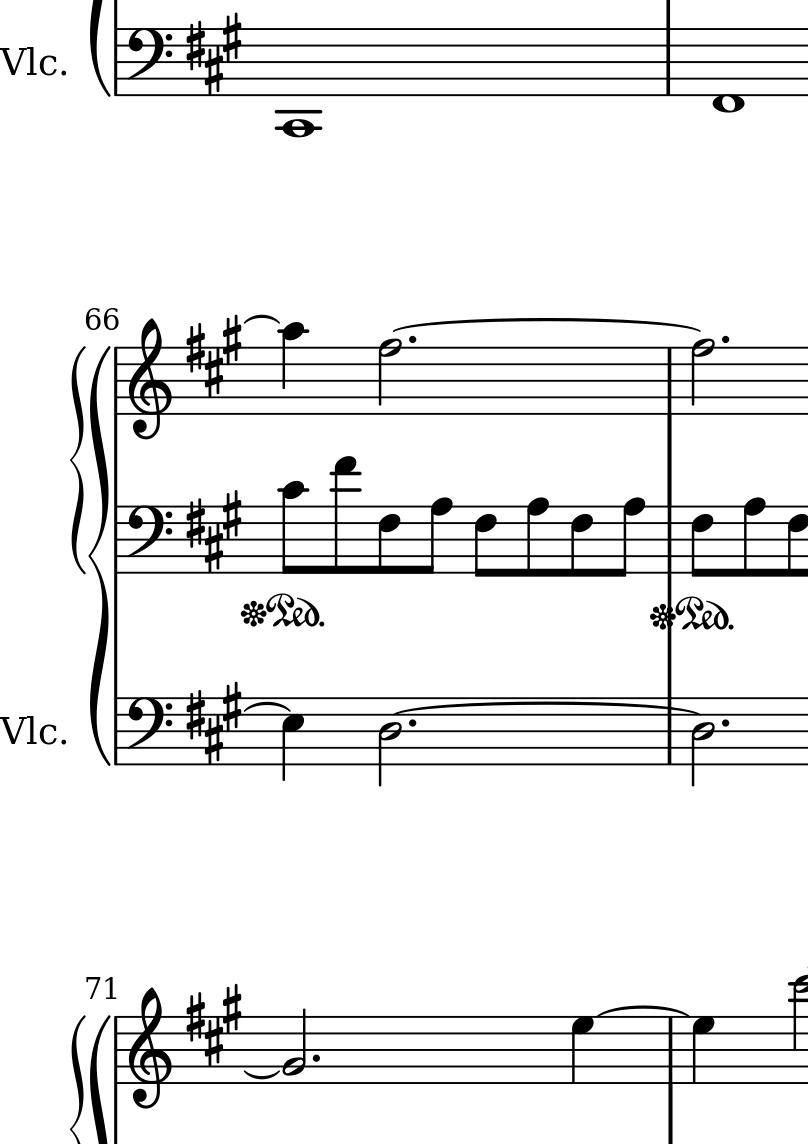1: (104, 974, 119, 1002)
1_-1: (711, 28, 747, 114)
1_-4: (278, 27, 320, 137)
2_2: (280, 1006, 310, 1086)
2_4: (377, 696, 403, 788), (690, 698, 716, 788)
2_8: (690, 336, 716, 417), (377, 338, 403, 417)
4_10: (279, 321, 308, 417)
4_5: (281, 695, 306, 784)
4_7: (690, 1013, 717, 1087), (570, 1014, 596, 1086)
6: (101, 305, 122, 332), (84, 305, 104, 332)
7: (84, 974, 102, 1002)
8_10: (280, 481, 308, 577)
8_13: (329, 456, 360, 575)
8_6: (473, 504, 498, 580), (570, 504, 595, 579), (690, 504, 715, 578), (377, 504, 402, 577), (785, 504, 808, 579)
8_8: (610, 496, 646, 580), (419, 495, 454, 577), (525, 496, 551, 581), (742, 496, 767, 580)
A_S: (184, 681, 246, 764), (184, 488, 242, 574), (184, 12, 244, 93), (185, 314, 241, 398), (185, 986, 243, 1064)
Brace: (88, 343, 110, 766), (69, 345, 87, 576)
Fclef: (125, 26, 175, 98), (126, 503, 174, 575), (126, 696, 174, 766)
Gclef: (126, 984, 176, 1111), (128, 314, 174, 441)
Single_barline: (658, 29, 678, 95), (663, 1018, 683, 1084), (661, 506, 680, 574), (661, 698, 680, 765), (661, 348, 680, 414), (110, 347, 126, 415), (110, 698, 126, 766), (111, 506, 126, 575), (111, 28, 126, 96), (110, 1017, 125, 1083)
Slur: (394, 701, 705, 717), (389, 317, 703, 331), (594, 1004, 691, 1017), (245, 699, 291, 714), (240, 1069, 283, 1080), (244, 314, 280, 325)
Vlc: (1, 41, 57, 84), (1, 711, 57, 752)
dot: (719, 332, 732, 348), (719, 715, 732, 730), (309, 1051, 322, 1065), (406, 333, 418, 346), (407, 717, 418, 730)
